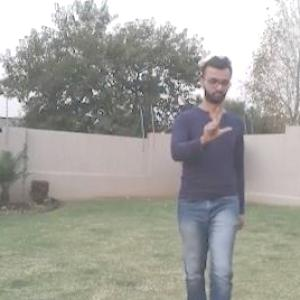land_hand: (194, 109, 234, 150)
